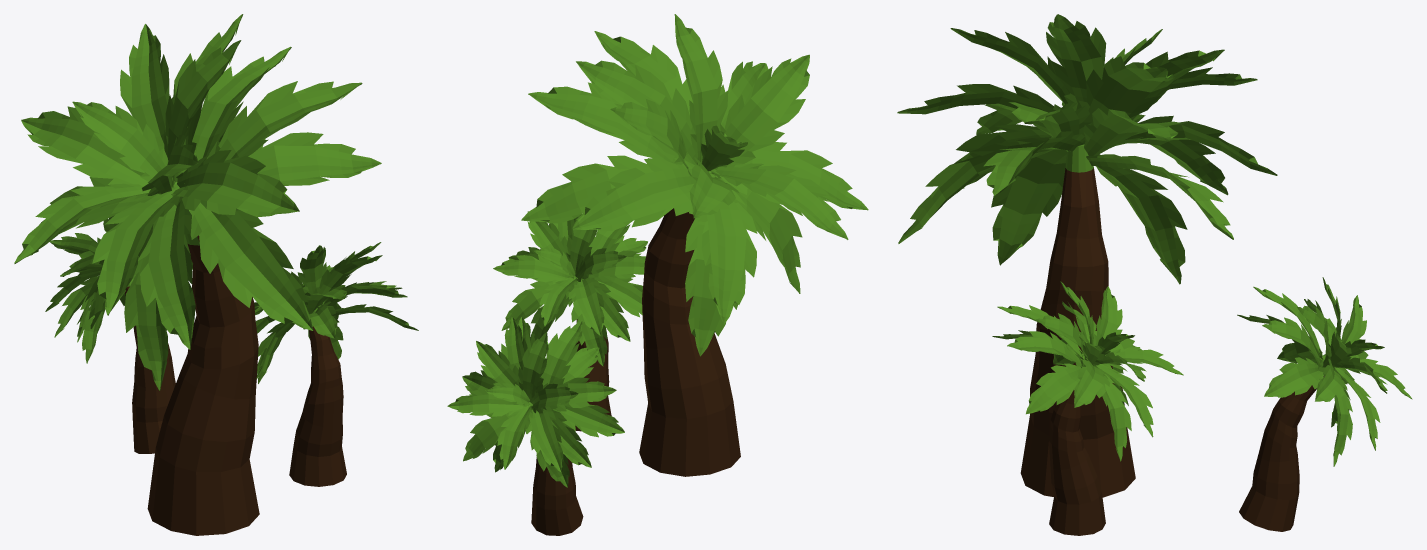
The picture shows the model from 3 angles, left to right: view 1: azimuth 30°, elevation 25°; view 2: azimuth 150°, elevation 25°; view 3: azimuth 270°, elevation 25°; orthographic projection. The views are drawn at different scales.
Parts seen in each view (by area): view 1: Medium Tree, Medium Tree.001, Medium Tree.002; view 2: Medium Tree, Medium Tree.002, Medium Tree.001; view 3: Medium Tree, Medium Tree.001, Medium Tree.002.
Part boxes in pixels (x1,y1,x2,y2): Medium Tree: (14,14,381,535); Medium Tree.001: (254,242,418,486); Medium Tree.002: (45,215,192,453); Medium Tree: (521,14,868,476); Medium Tree.002: (447,316,624,535); Medium Tree.001: (493,211,647,431); Medium Tree: (897,14,1277,497); Medium Tree.001: (992,281,1183,535); Medium Tree.002: (1237,277,1412,531).
Size of the model in its own units: 2.41 by 2.97 by 2.78.
